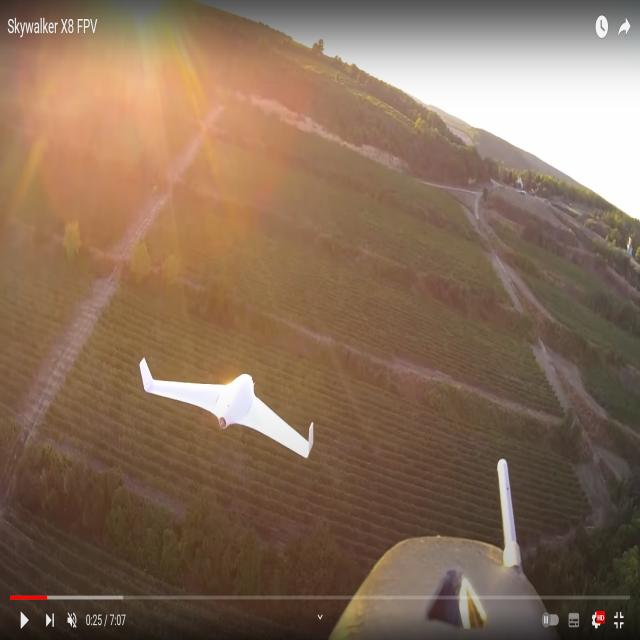iha: (141, 383, 313, 441)
